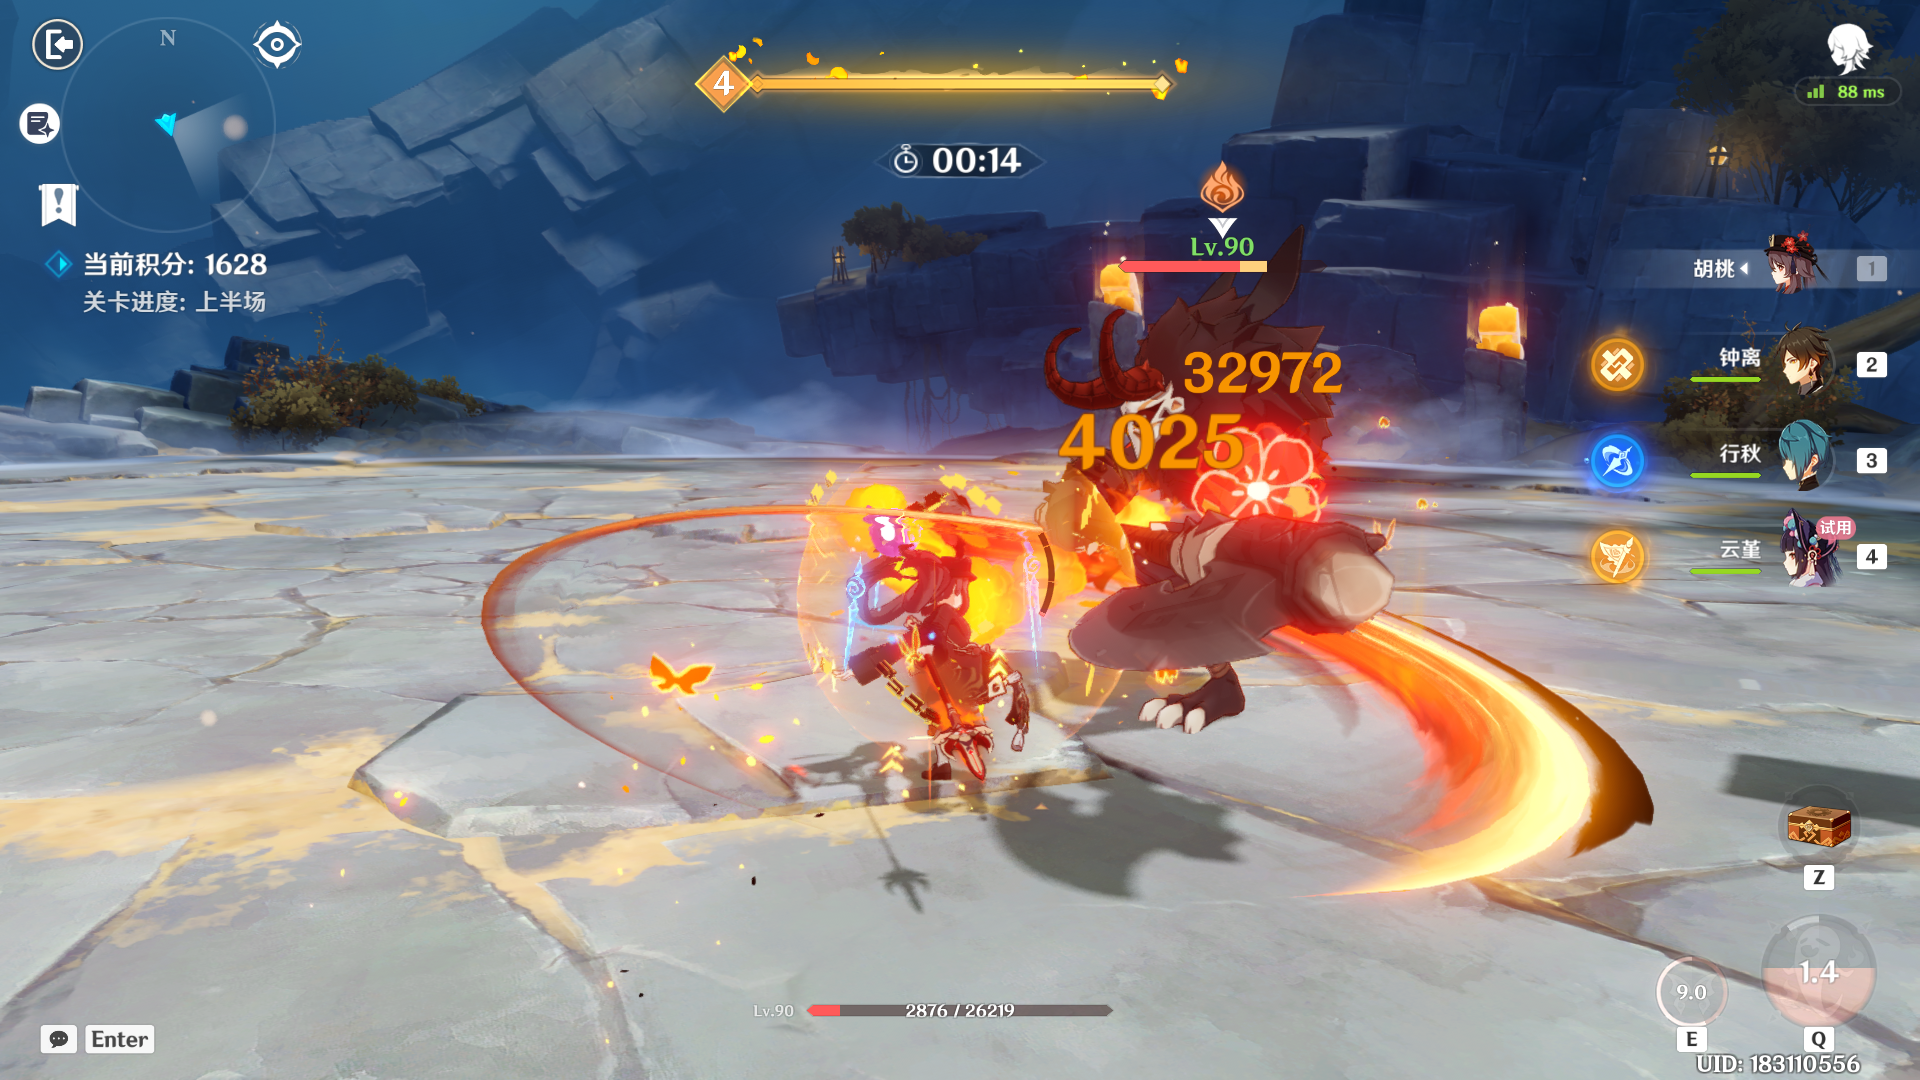bighili: (1026, 253, 1382, 764)
character: (808, 463, 1054, 827)
